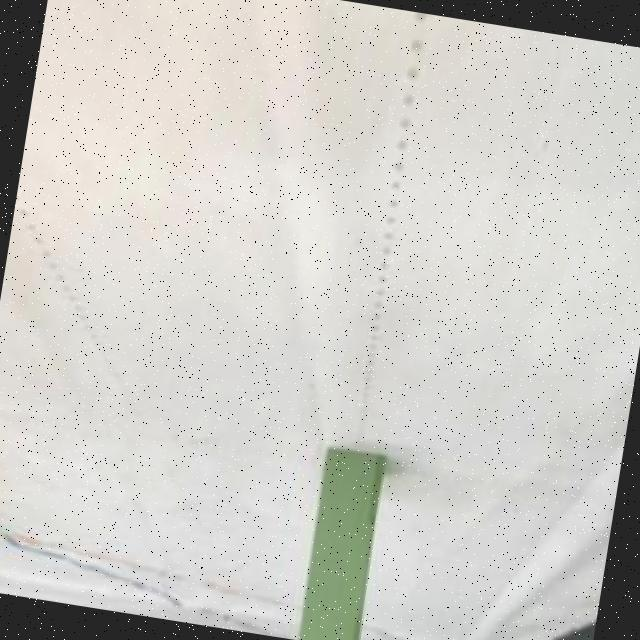greenbox: (292, 447, 390, 640)
